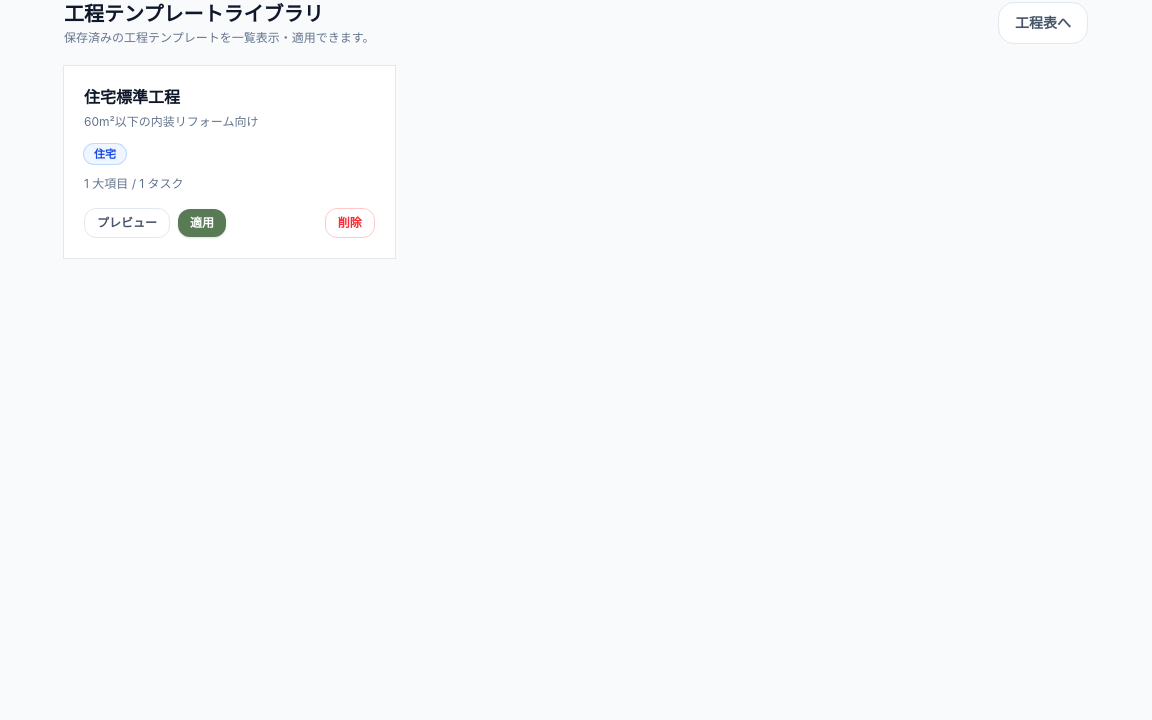
Test: PhaseTemplateLibraryPage — 適用フロー › 案件なしの場合は案件がない旨のメッセージが表示される
The image size is (1152, 720).
Click the button "適用" at (202, 223), box [178,209,226,237]
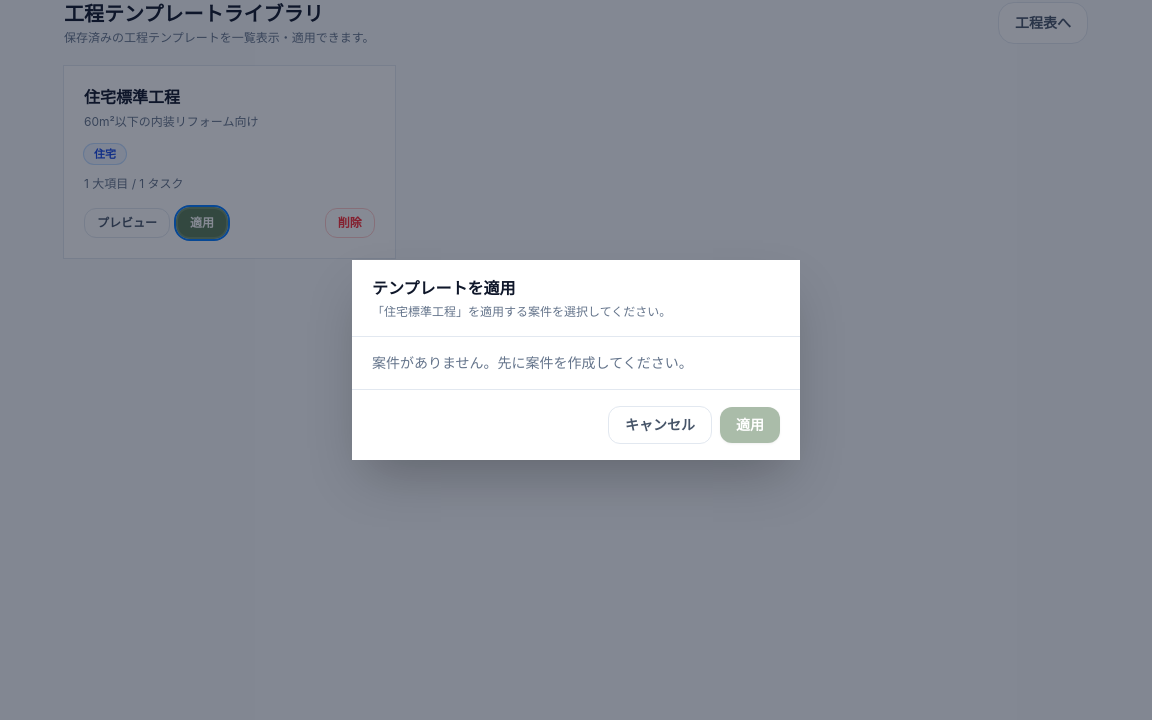
Expected: the dialog is shown, [352,260,800,460]
Expected: the text "案件がありません。先に案件を作成してください。" is shown, [372,354,693,371]
